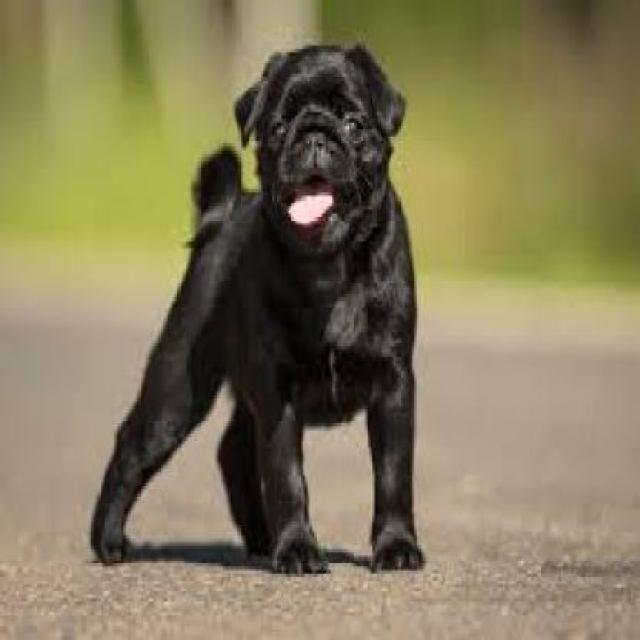animals: (73, 0, 489, 620)
